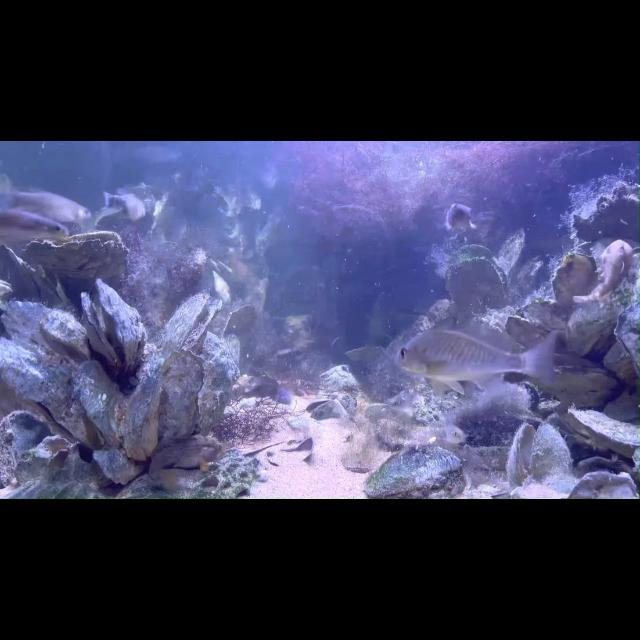Oyster-Closed: (564, 245, 640, 358), (122, 355, 166, 459), (73, 360, 123, 450), (0, 243, 68, 309), (526, 361, 618, 409), (197, 330, 240, 432), (566, 406, 640, 462), (0, 408, 56, 482), (161, 347, 205, 438), (550, 248, 600, 312), (223, 302, 259, 366), (494, 228, 526, 282), (524, 296, 574, 330), (504, 316, 554, 348)
Oyster-Open: (0, 333, 98, 451), (81, 278, 143, 379), (445, 243, 507, 324), (506, 422, 572, 494), (21, 232, 130, 270), (163, 293, 220, 359), (40, 306, 91, 360), (305, 398, 339, 422)
